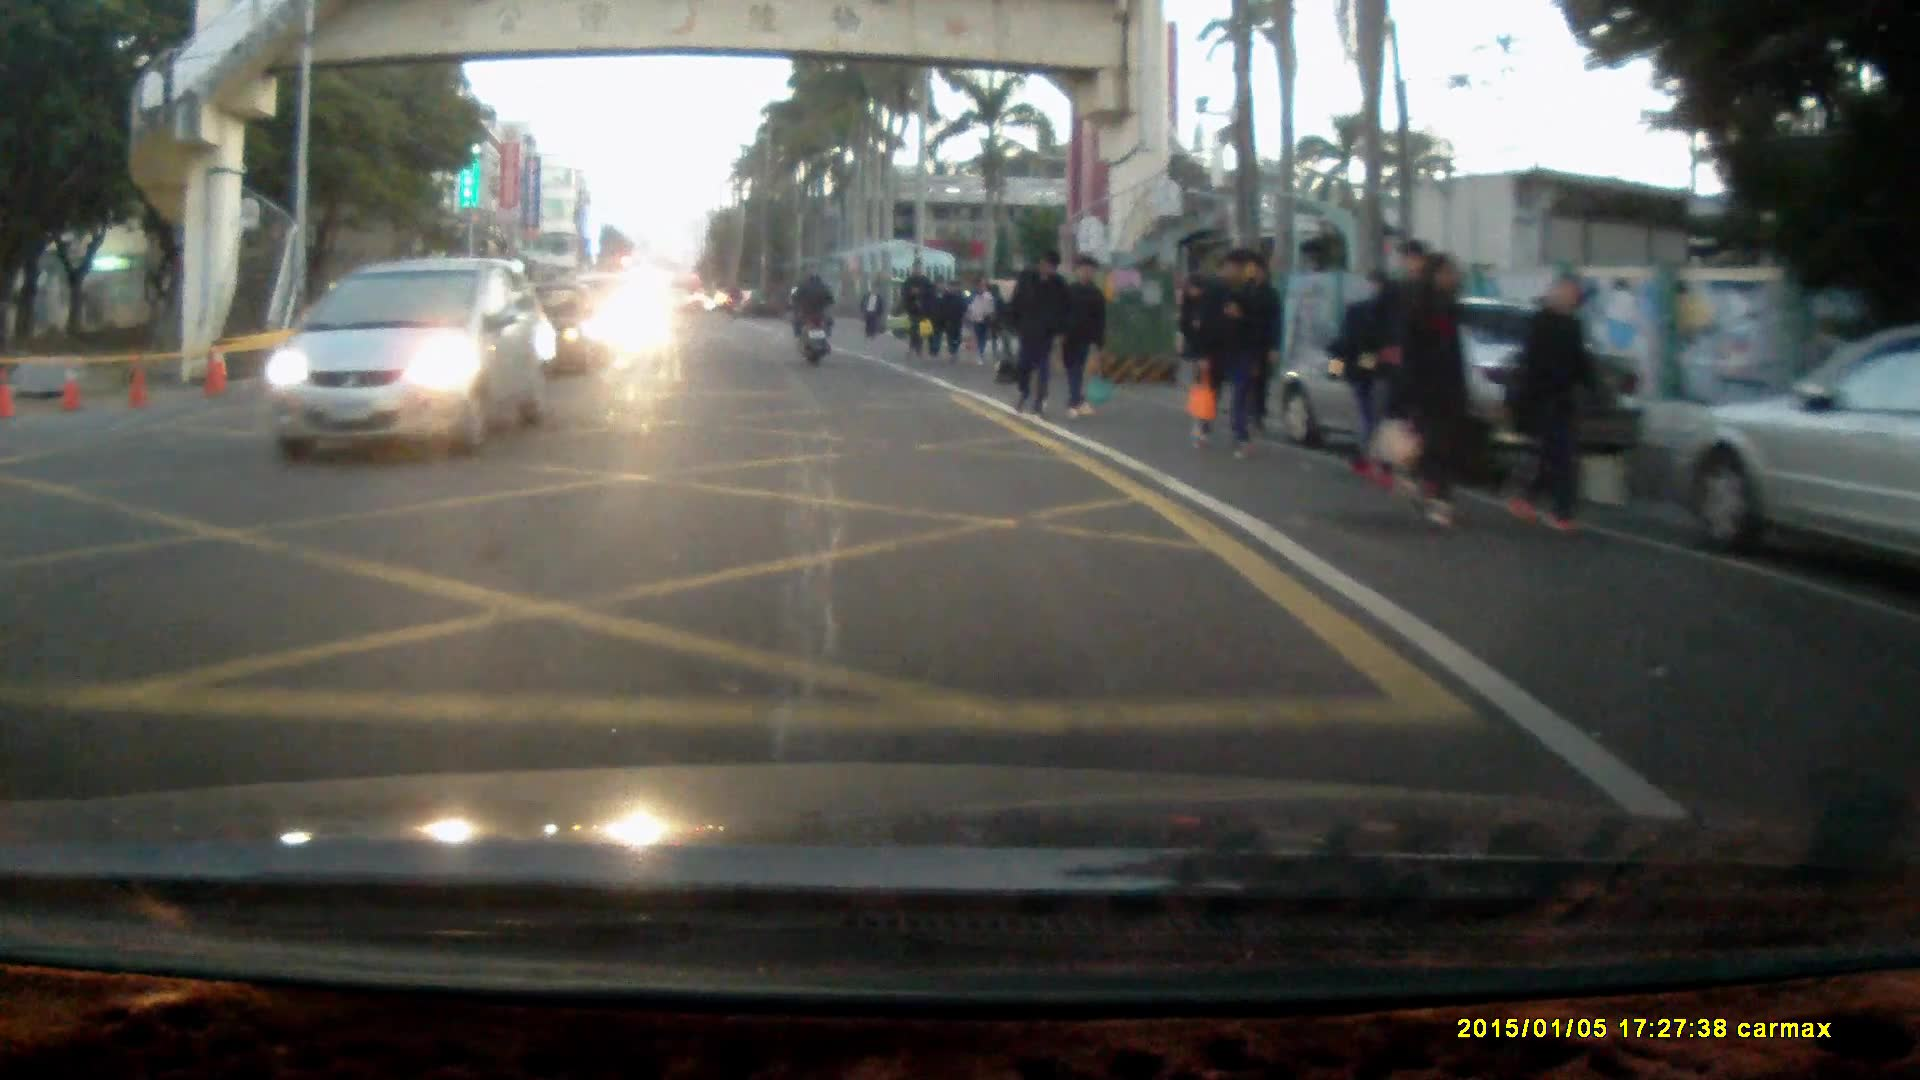pedestrian: (1511, 269, 1601, 534), (1397, 254, 1476, 536), (1366, 236, 1441, 499), (1190, 244, 1262, 459), (1337, 270, 1402, 470), (1009, 246, 1072, 419), (1058, 256, 1115, 427), (967, 273, 1003, 366), (898, 259, 931, 359), (920, 273, 956, 353), (861, 279, 885, 344)
rider: (791, 268, 835, 367)
vehicle: (1661, 334, 1920, 609), (1281, 297, 1645, 474), (262, 254, 554, 470)
